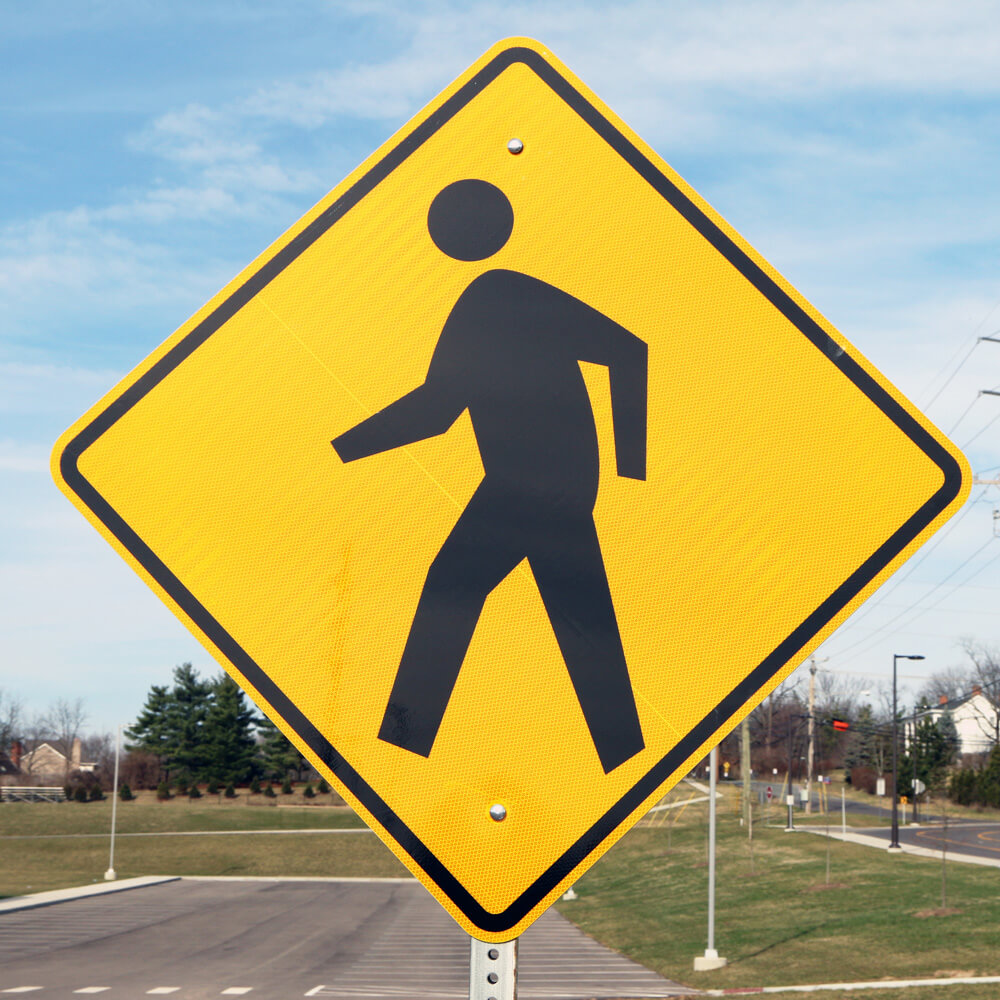pedestrian: (68, 58, 900, 896)
